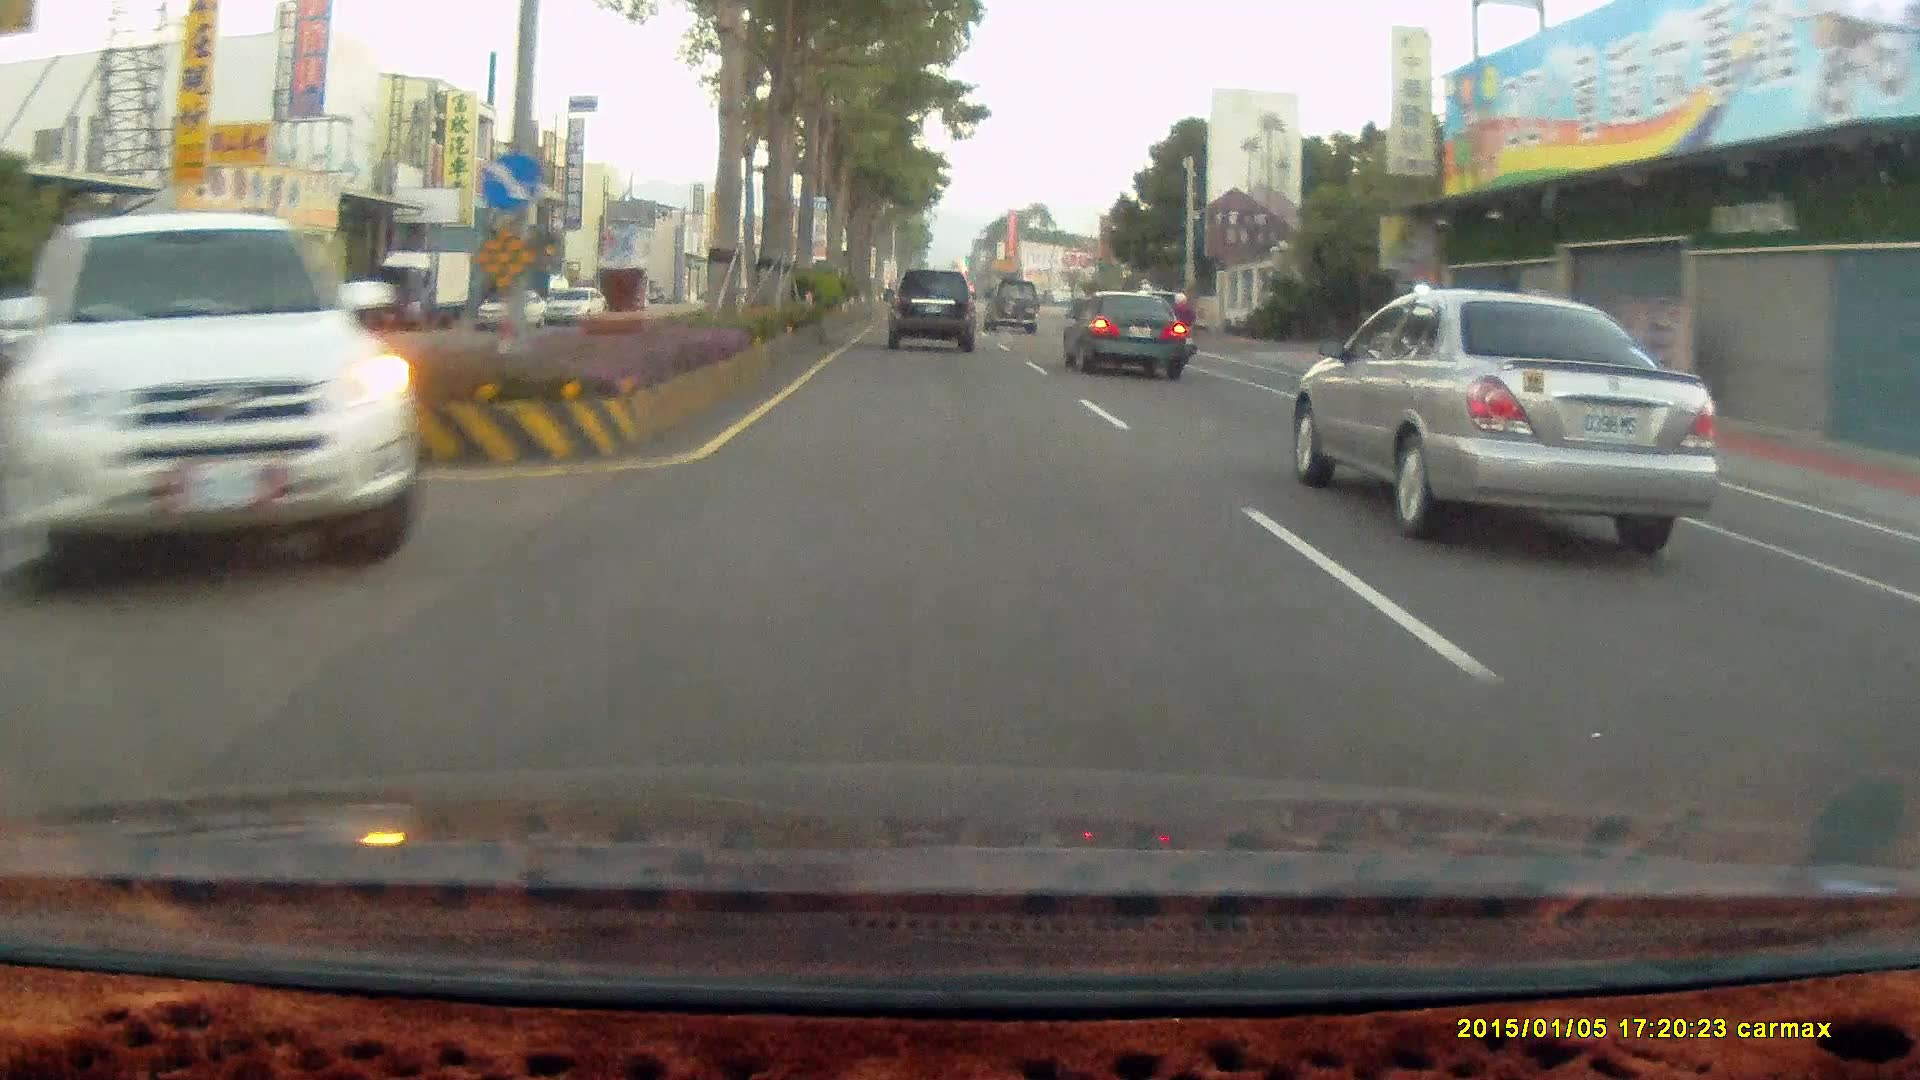rider: (1157, 288, 1200, 364)
vehicle: (0, 210, 417, 590), (38, 212, 406, 583), (1295, 291, 1716, 547), (1060, 291, 1187, 382), (1066, 298, 1196, 383), (68, 289, 192, 376), (884, 266, 981, 355), (375, 247, 472, 328), (377, 248, 473, 329), (886, 269, 976, 353), (983, 280, 1040, 337), (983, 276, 1039, 332), (479, 295, 547, 340), (478, 285, 546, 329)
